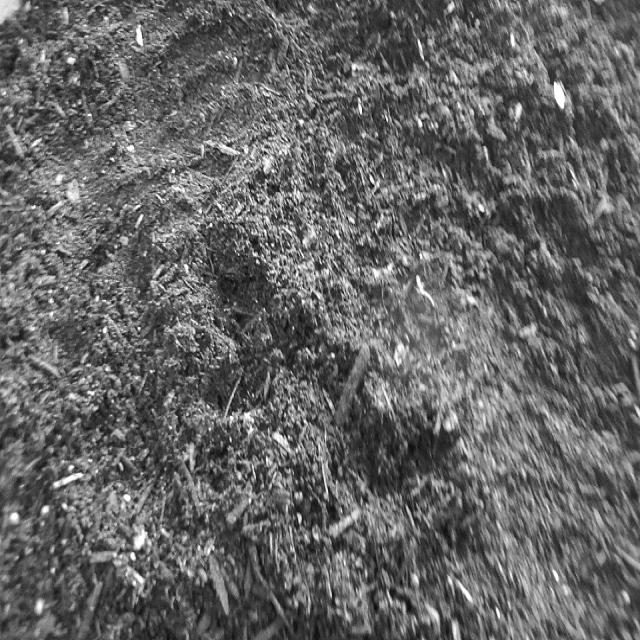Unhealthy: (409, 270, 443, 314)
